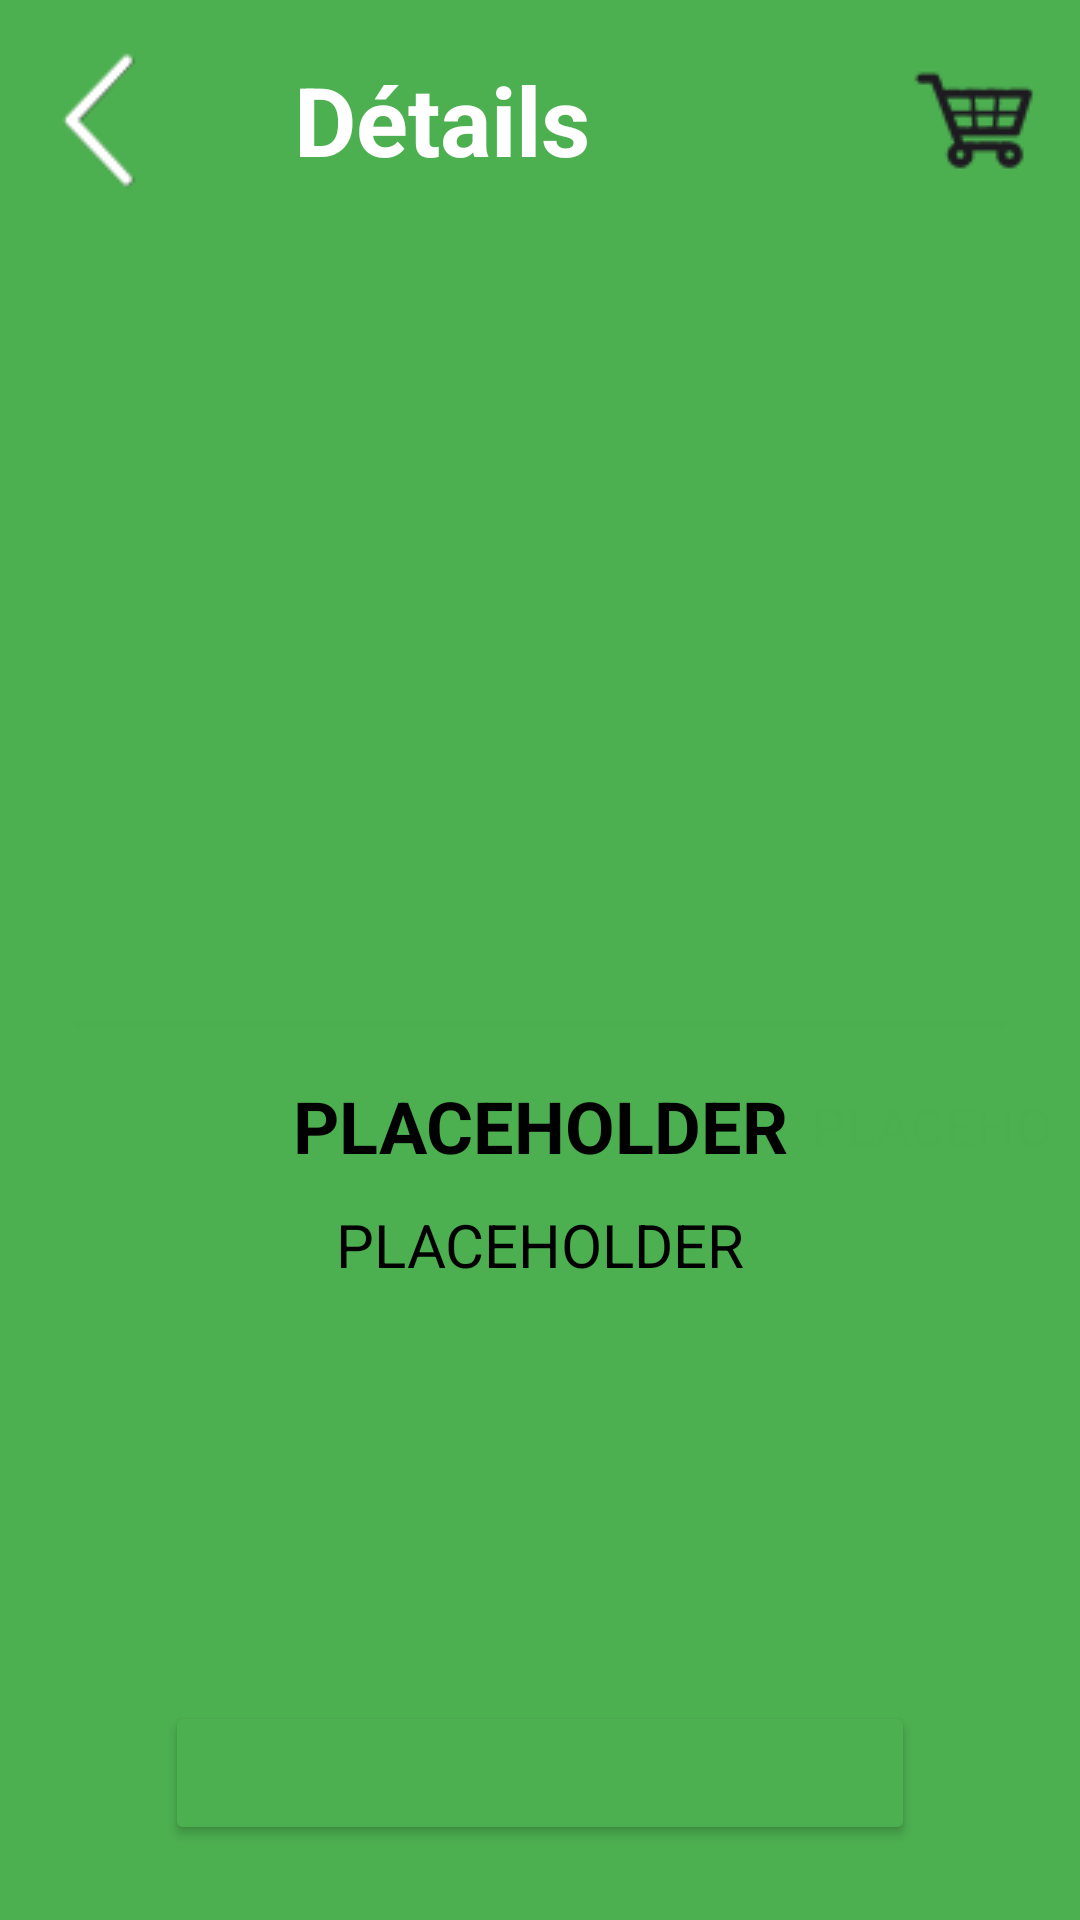

Icons on this 1080w x 1920h Android screen, each with the point to tap as (x=x, y=y):
Voir mon panier: (x=974, y=120)
